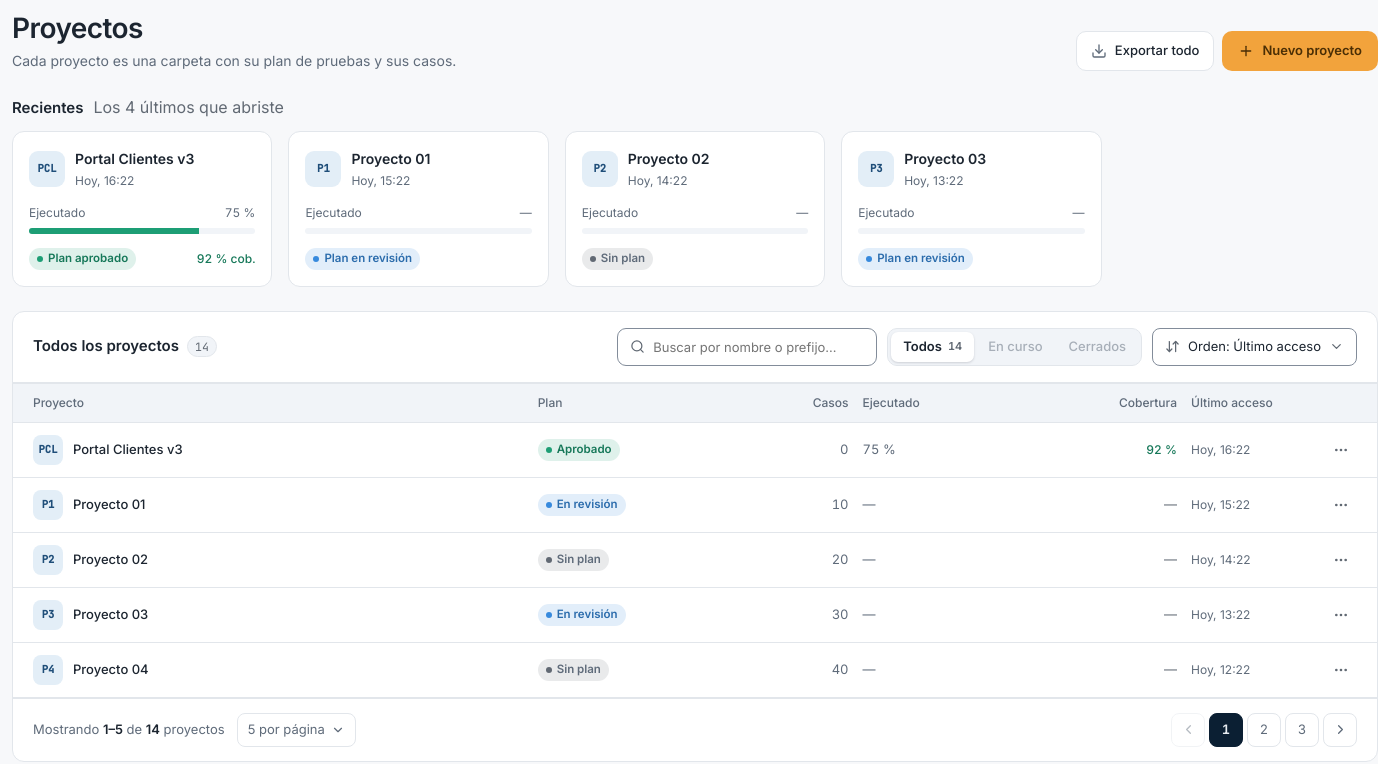
Test case: Proyectos (SPEC §8) › orders by name and changes page
This screenshot has width=1378, height=764.
Click the button named "Orden: Último acceso · Descendente".
click(1255, 347)  # box [1152,328,1357,366]
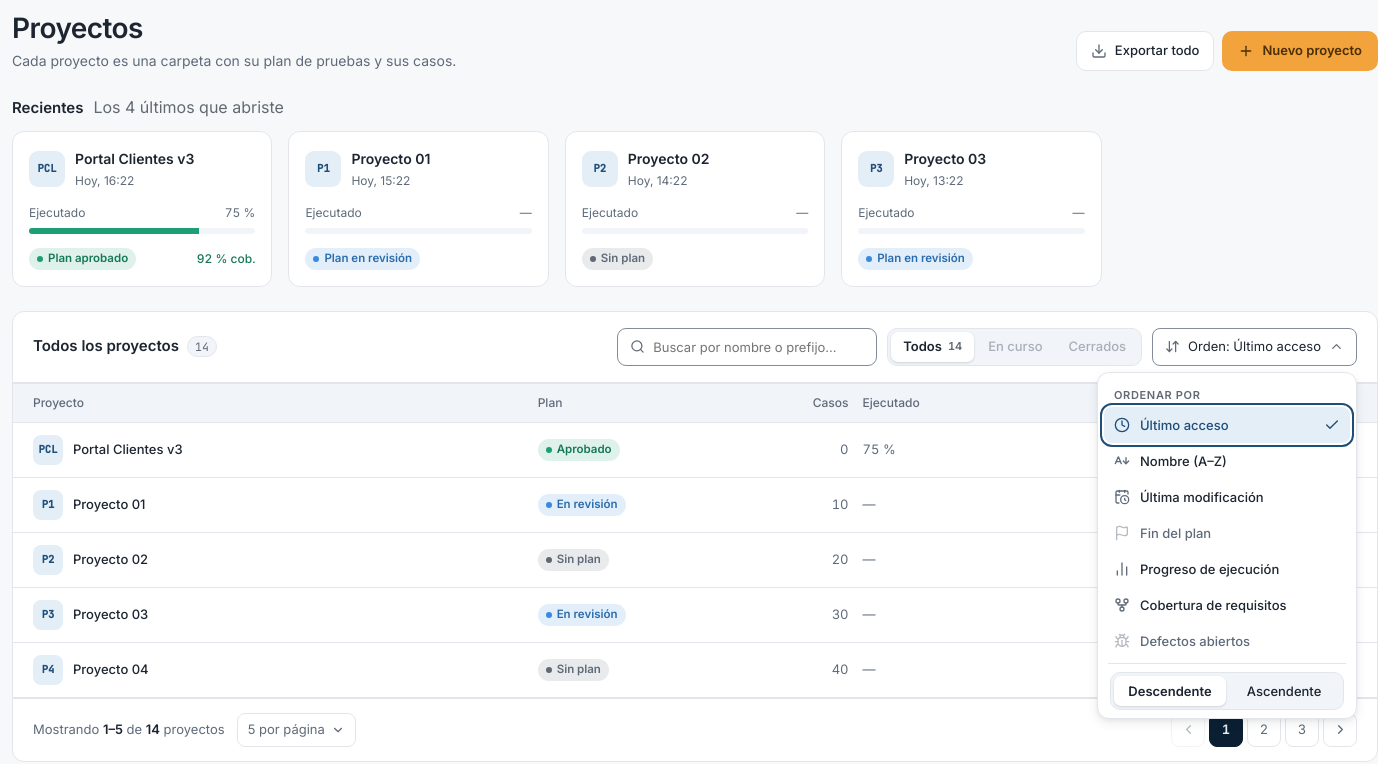
Expected: the menu item "Progreso de ejecución" is enabled, [1104,551,1350,587]
Expected: the menu item "Fin del plan" is disabled, [1104,515,1350,551]
Click the menu item "Nombre (A–Z)".
click(1227, 461)  # box [1104,443,1350,479]
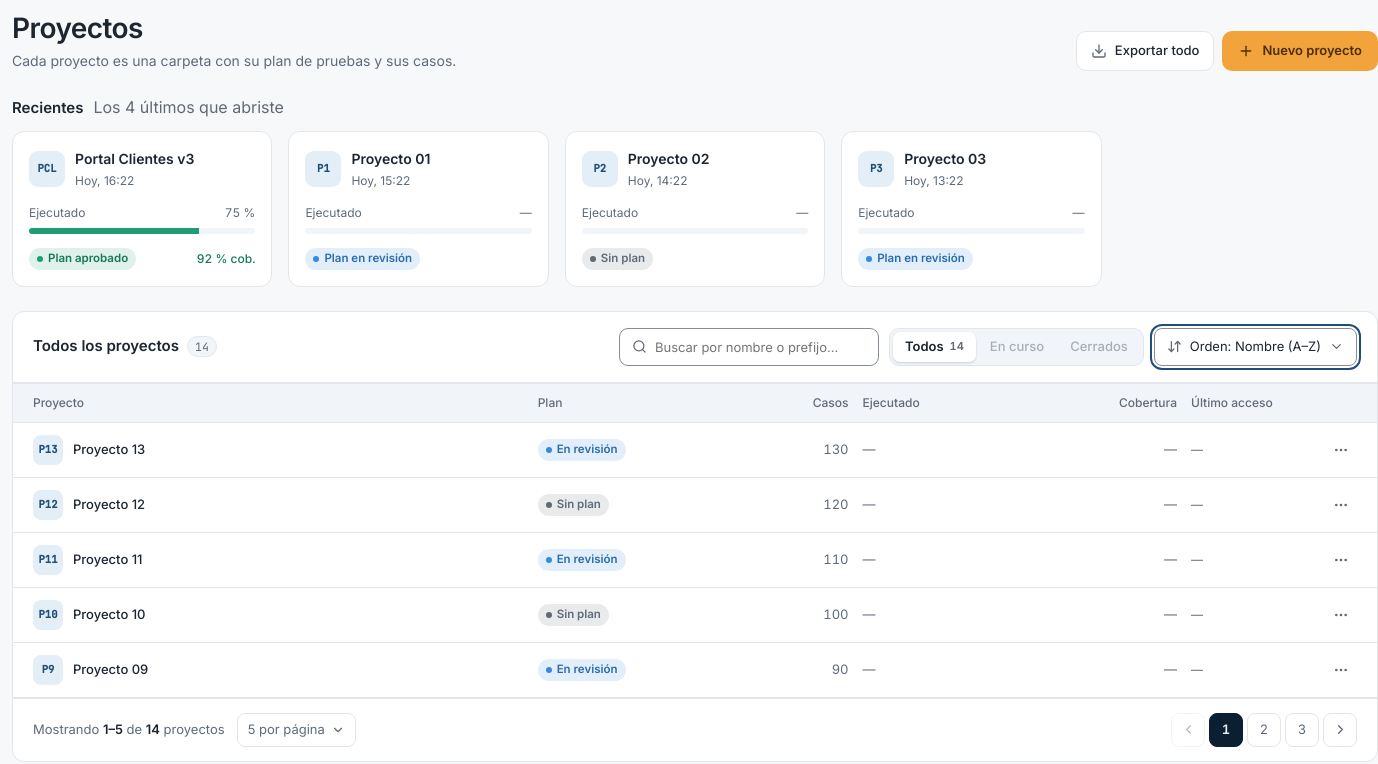
Click the button named "Orden: Nombre (A–Z) · Descendente".
click(1255, 347)  # box [1154,328,1357,366]
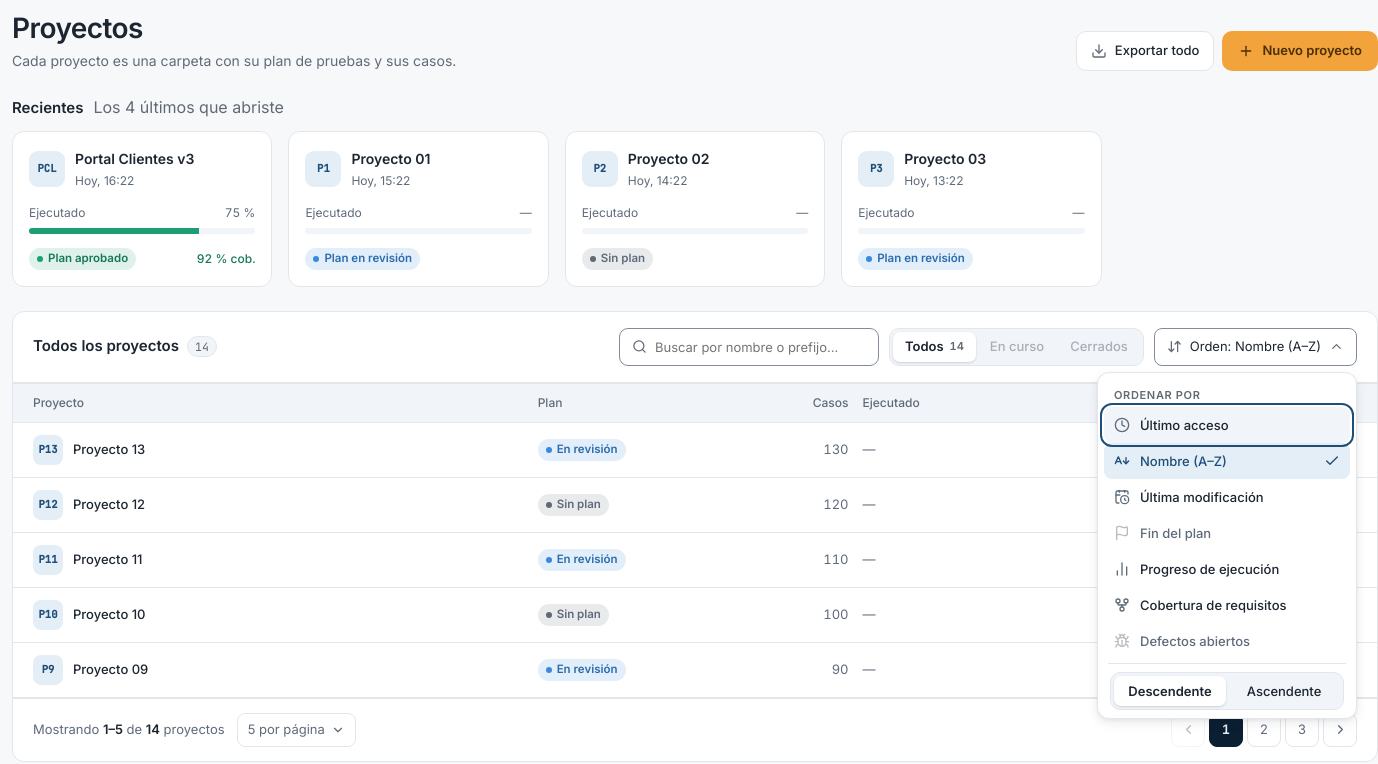
Click the menu item "Ascendente".
click(1284, 691)  # box [1228,676,1340,706]
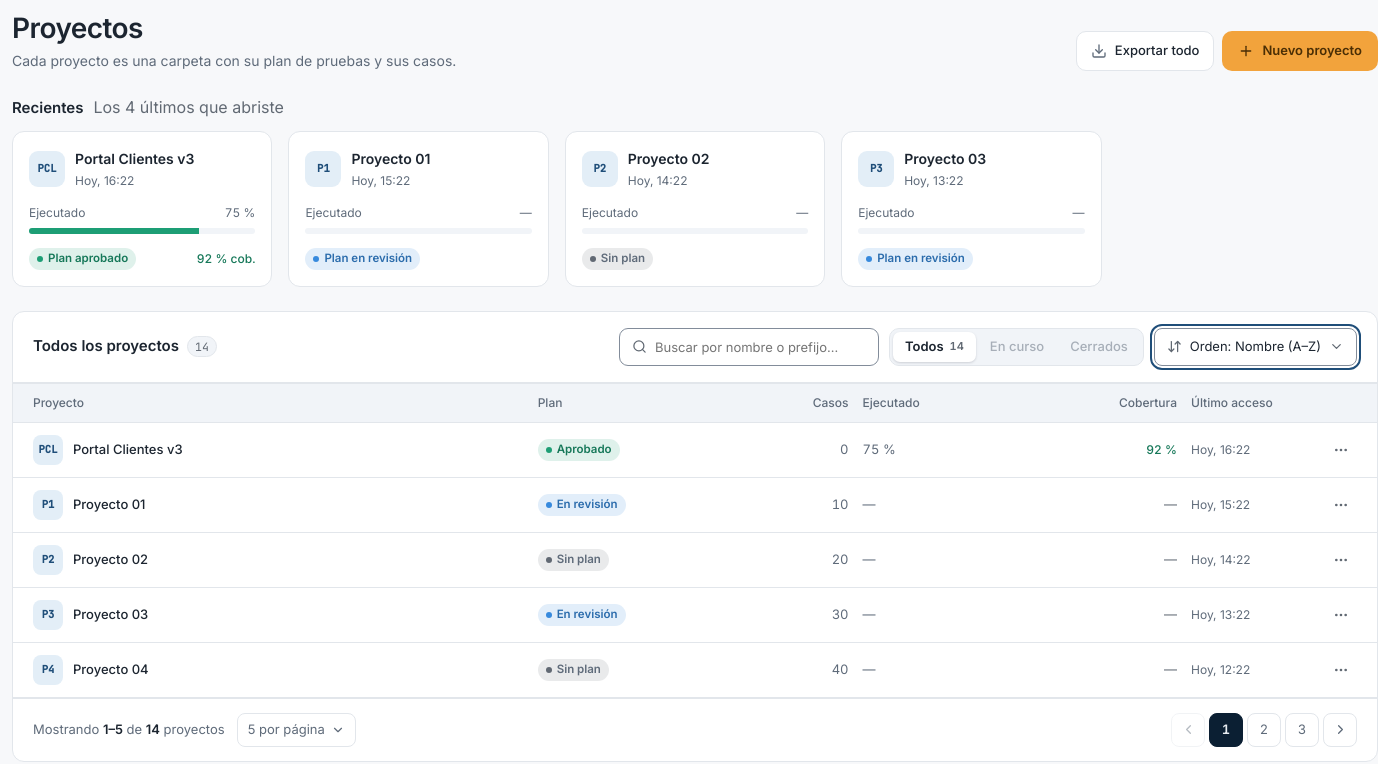
Expected: the link "PCL Portal Clientes v3" is shown, [33,435,182,465]
Click the button named "Página 2".
click(1264, 730)  # box [1247,713,1281,747]
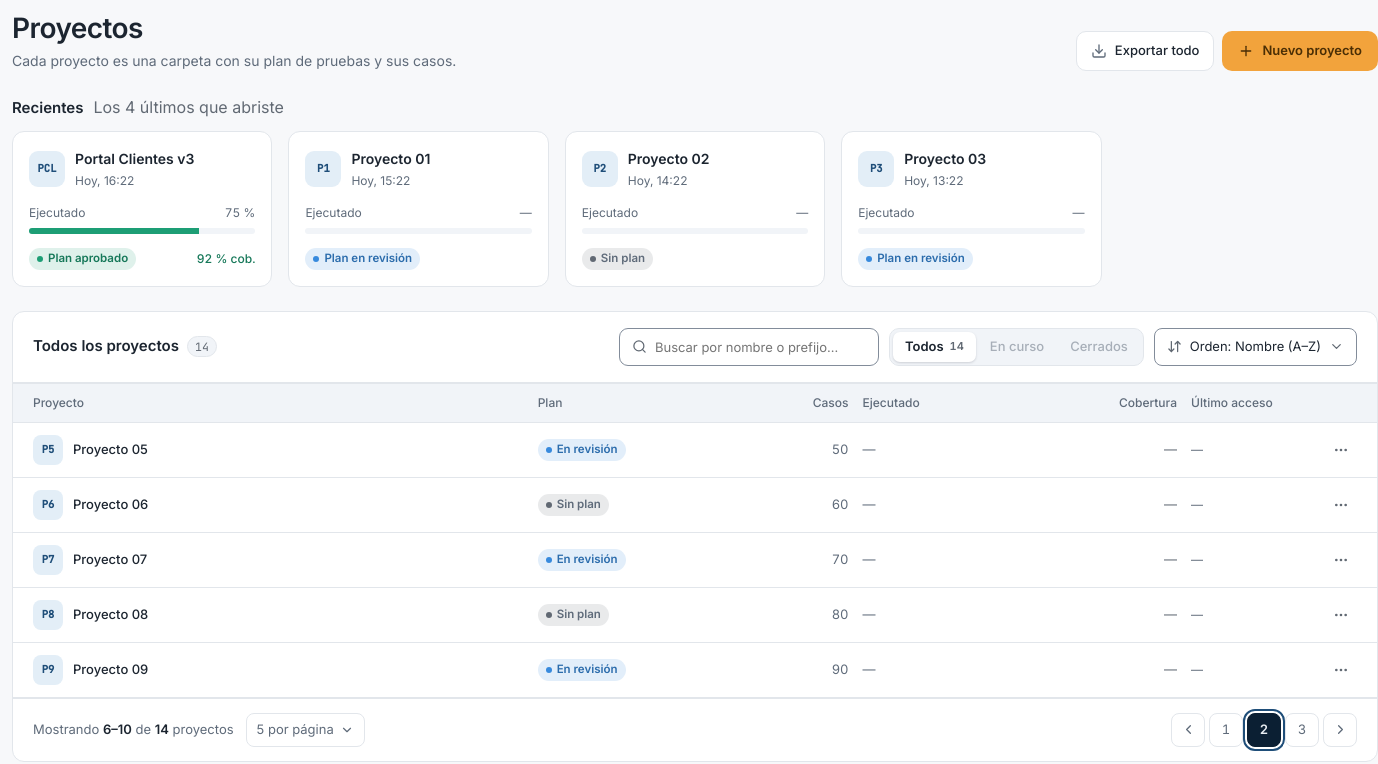
Expected: the text "Mostrando 6–10 de 14 proyectos" is shown, [33,720,234,739]
